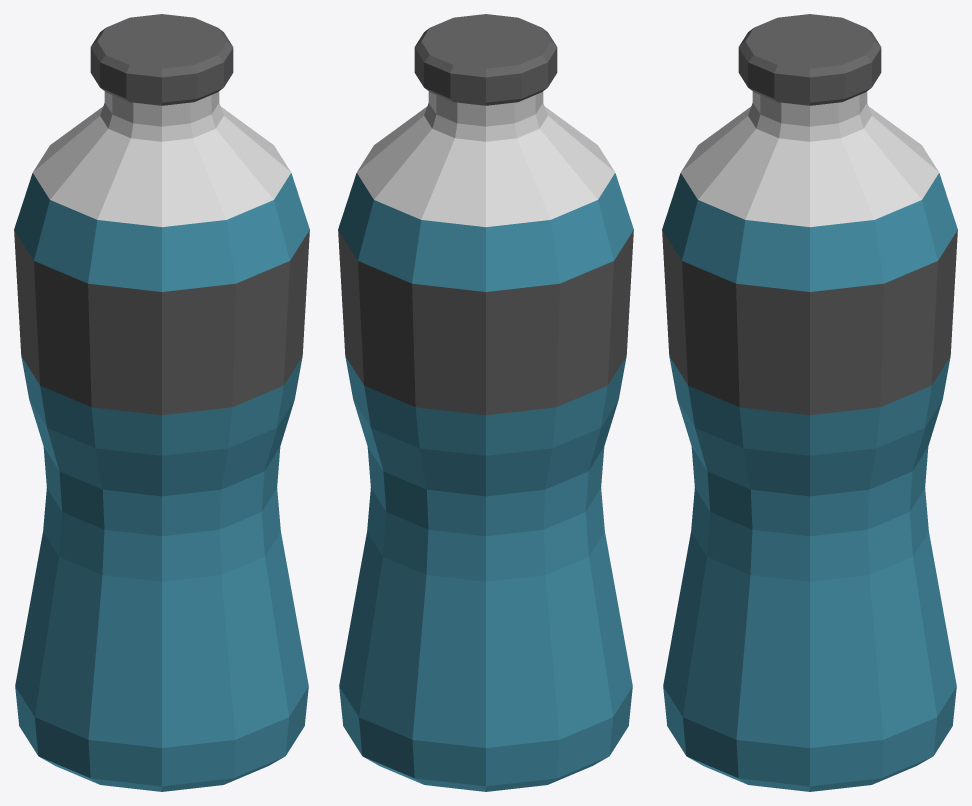
Rendered from water_fles.fbx.
3 views of the same model, side by side, from view 1: azimuth 30°, elevation 25°; view 2: azimuth 150°, elevation 25°; view 3: azimuth 270°, elevation 25° (orthographic).
Parts seen in each view (by area): view 1: waterbottle; view 2: waterbottle; view 3: waterbottle.
Boxes of the visible parts, bbox=[...] form: waterbottle: bbox=[14, 14, 309, 791]; waterbottle: bbox=[338, 14, 633, 791]; waterbottle: bbox=[662, 14, 957, 791].
Bounding box in the file's own units: 28.68 × 74.7 × 28.68.
